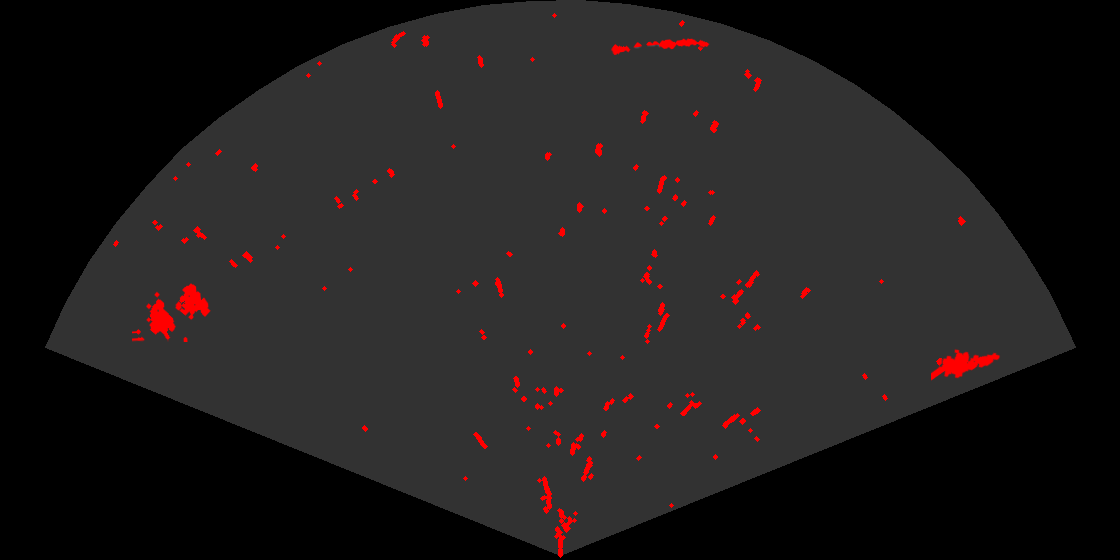cage: (132, 282, 212, 342)
chain: (609, 37, 711, 57)
frogman: (931, 347, 1002, 382)
